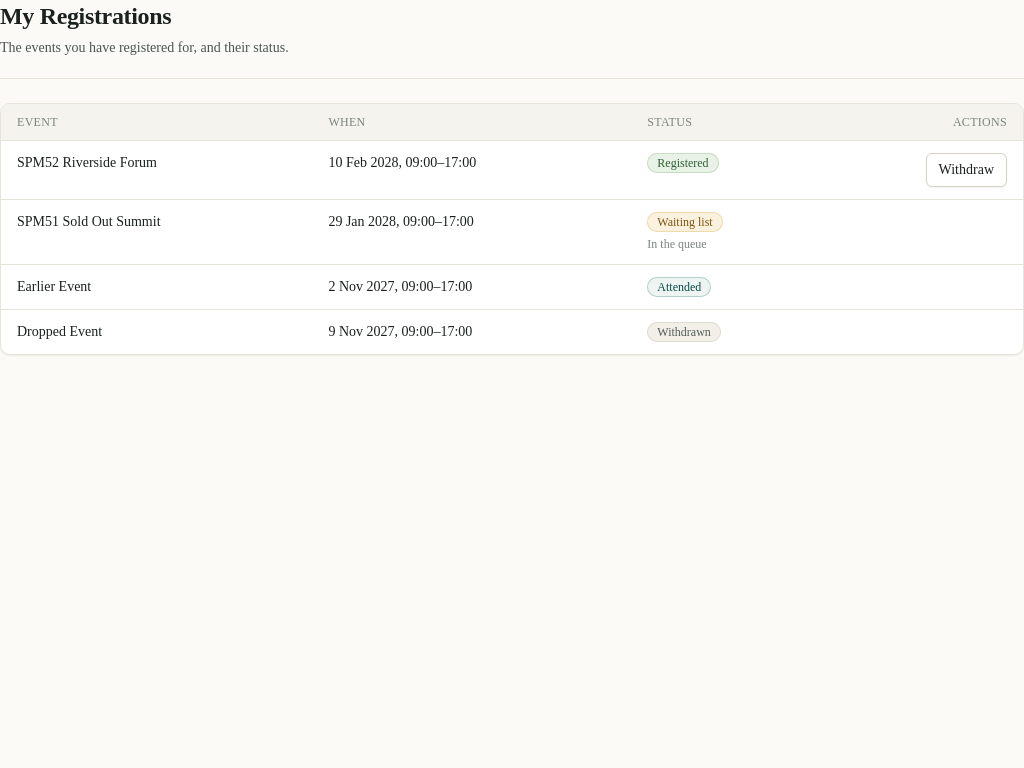
Test case: SPM-52 an attendee withdraws from My Registrations › [SPM-52] shows the server's refusal in the dialog
The image size is (1024, 768).
Expected: the table is shown, x1=1 y1=104 x2=1023 y2=354
Click the button "Withdraw". click: {"x": 966, "y": 170}
box: x1=926 y1=153 x2=1007 y2=187
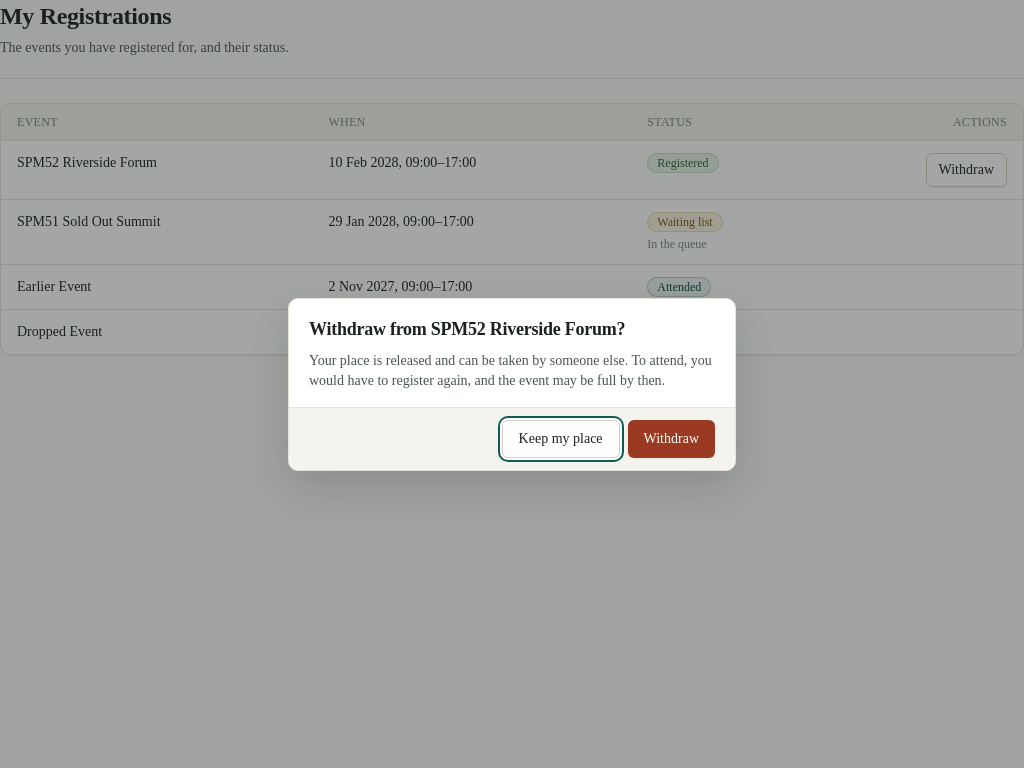
Click the button "Withdraw". click: {"x": 671, "y": 438}
box: x1=628 y1=420 x2=715 y2=458
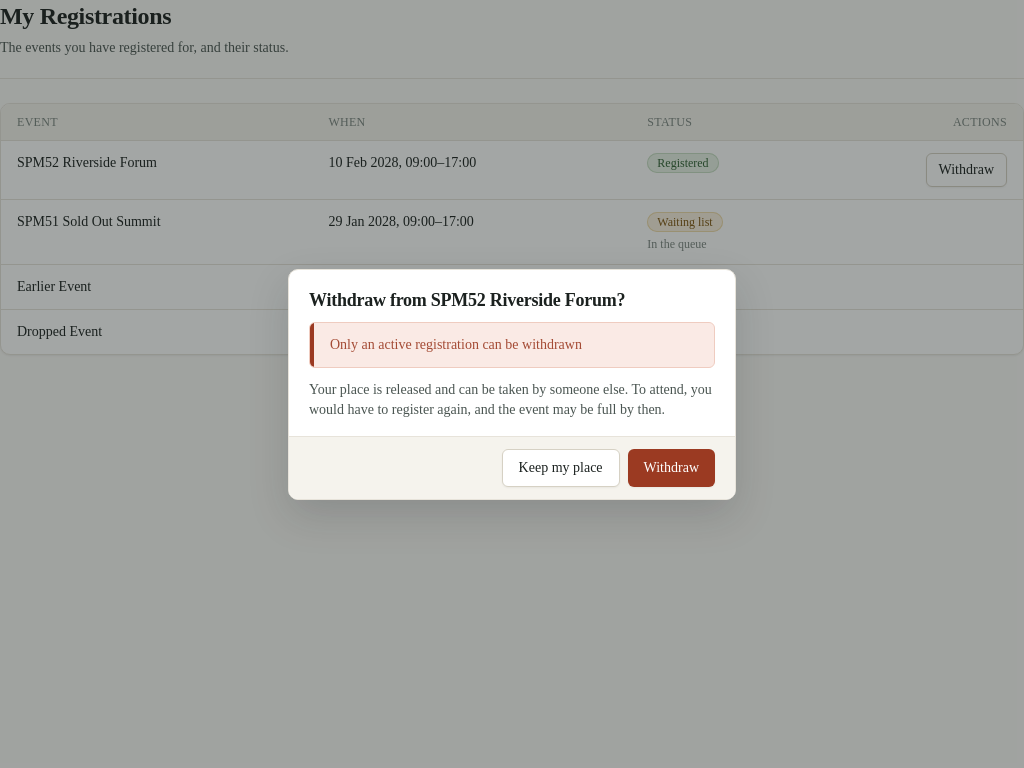
Expected: the text "Only an active registration can be withdrawn" is shown, x1=330 y1=334 x2=582 y2=354
